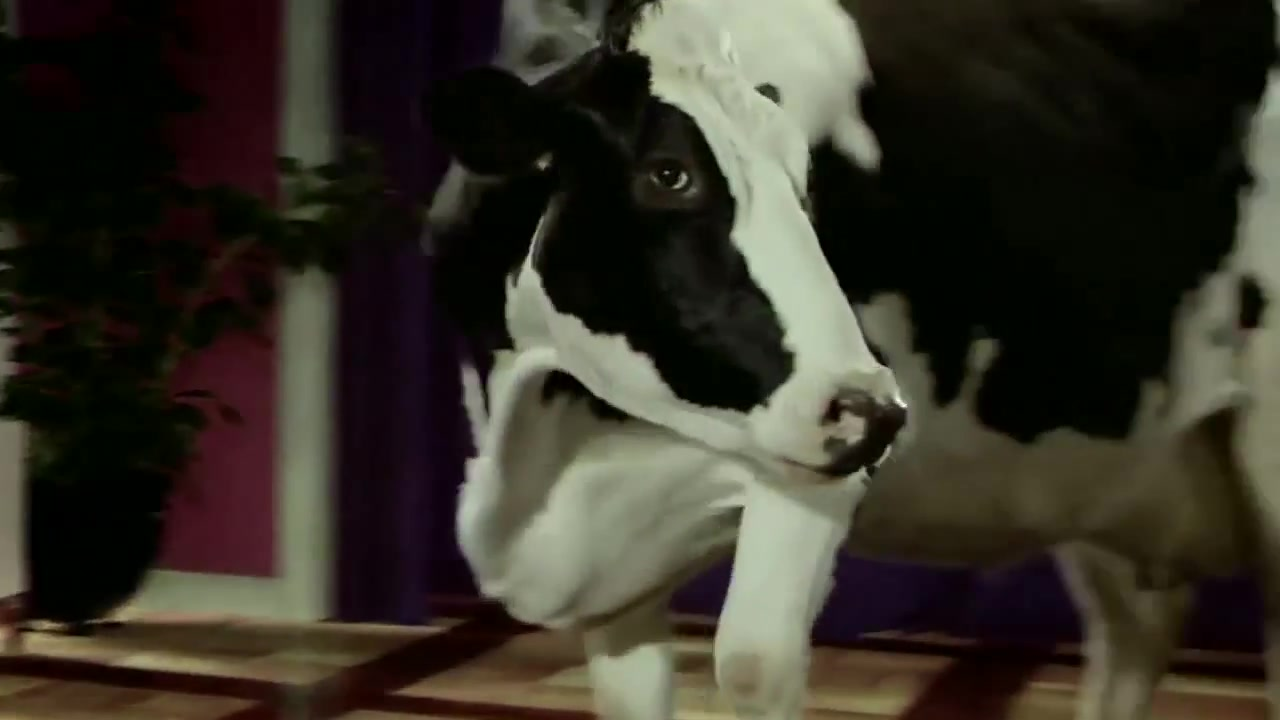cow: (410, 2, 1280, 720)
